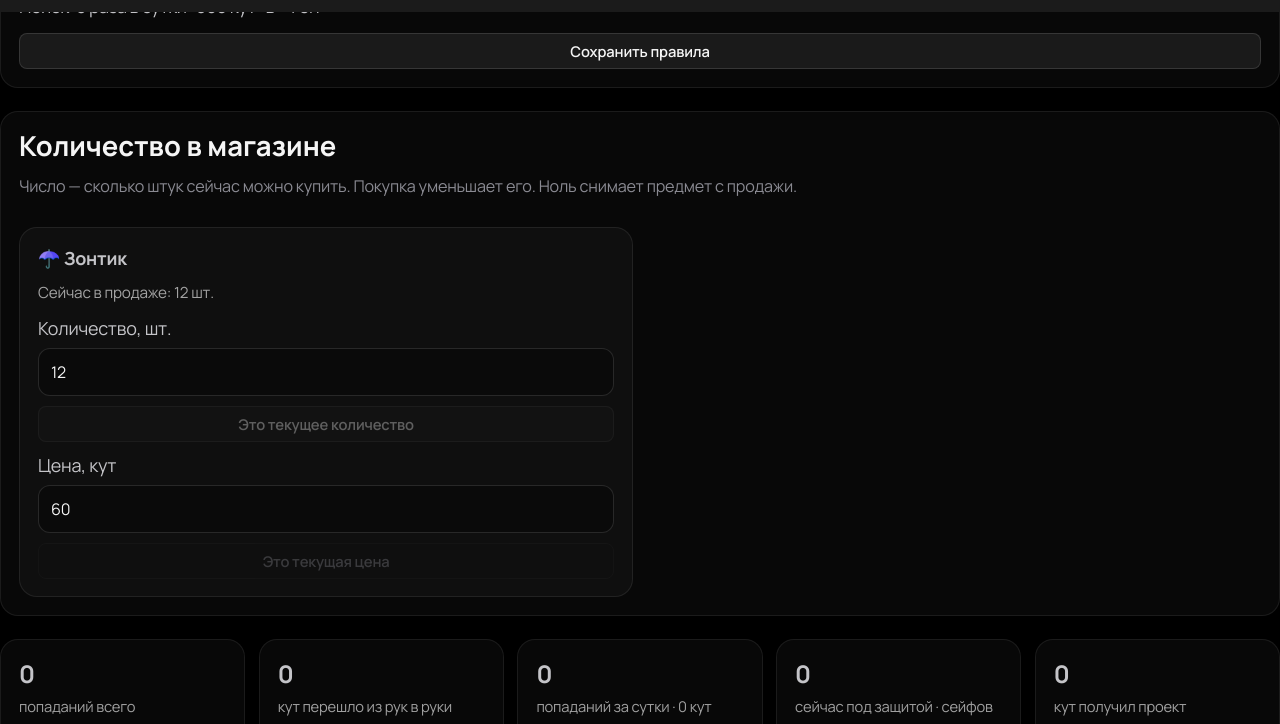
Test: water games shop stock › saves the shop quantity the creator typed
(page scrolled)
Replace the text in the field named "Количество: Зонтик" with "40" at (326, 372), box x1=38 y1=348 x2=614 y2=396
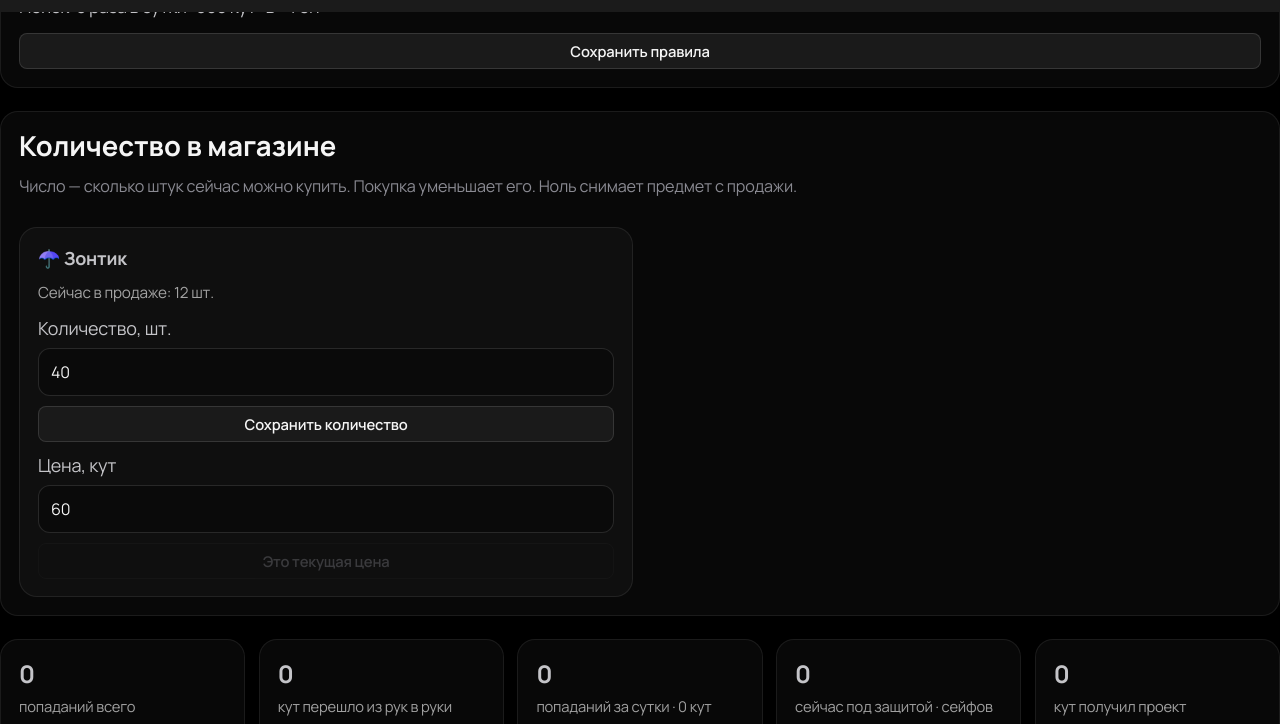
Click the button "Сохранить количество".
click(326, 424)  # box x1=38 y1=406 x2=614 y2=442
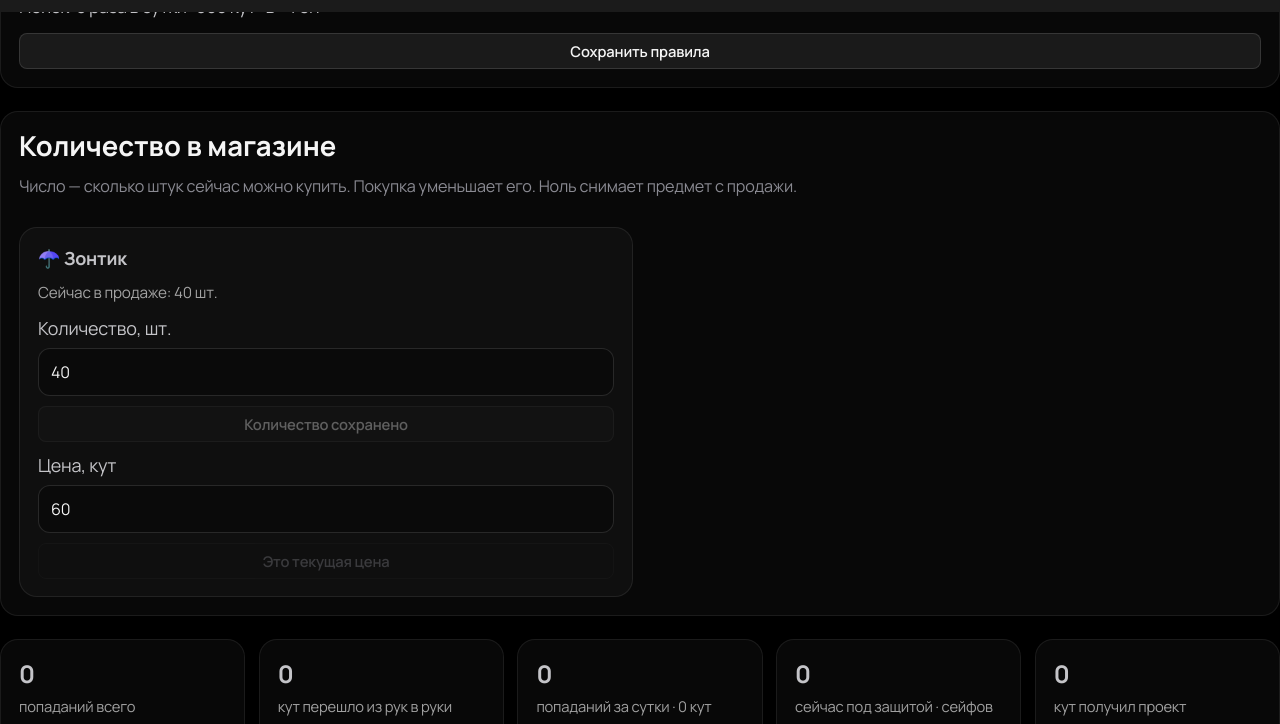
Expected: the text "Сейчас в продаже: 40 шт." is shown, x1=38 y1=282 x2=218 y2=303
Expected: the button "Количество сохранено" is disabled, x1=38 y1=406 x2=614 y2=442
